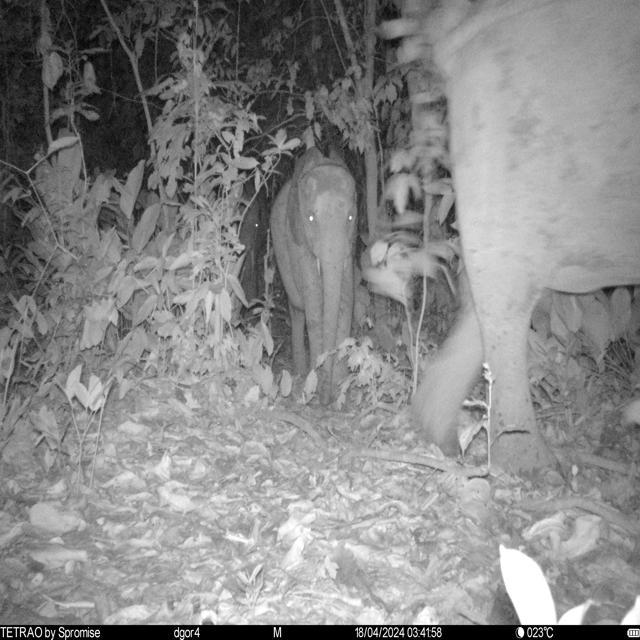elephant: (412, 1, 638, 483), (270, 150, 358, 408), (232, 188, 260, 328)
tusk: (314, 258, 324, 278)
